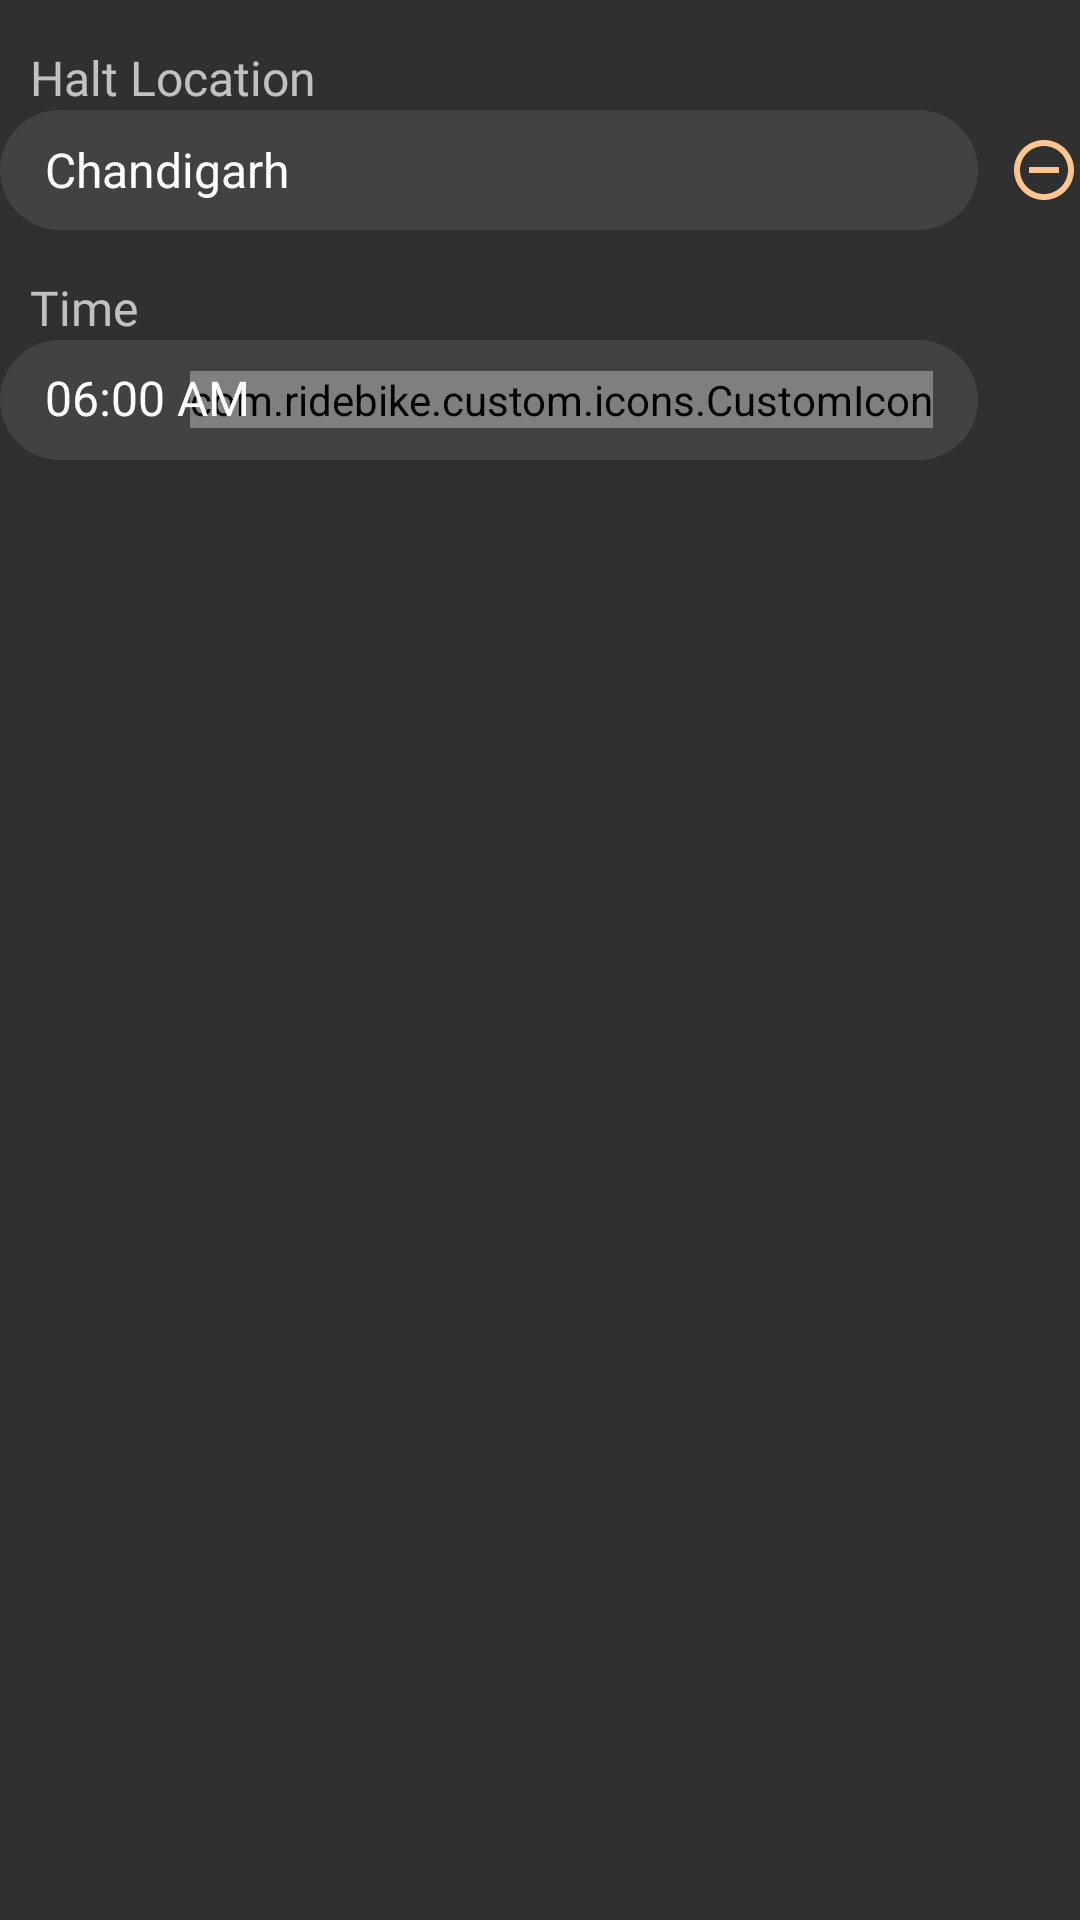

Icon click points for this 1080×1920 phone screenshot, format (x=x, y=y):
remove circle: (x=1044, y=170)
